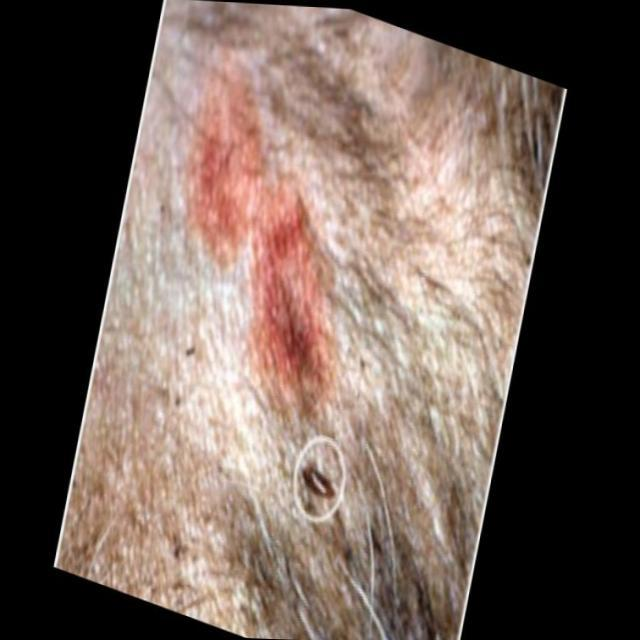allergic dermatitis: (185, 63, 333, 426)
